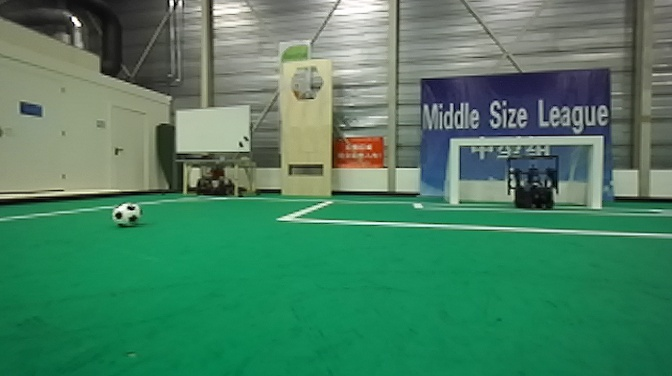ball: (109, 200, 145, 230)
goal: (447, 134, 606, 208)
goalpost: (587, 134, 606, 211), (447, 138, 462, 208)
robot: (505, 153, 561, 212)
